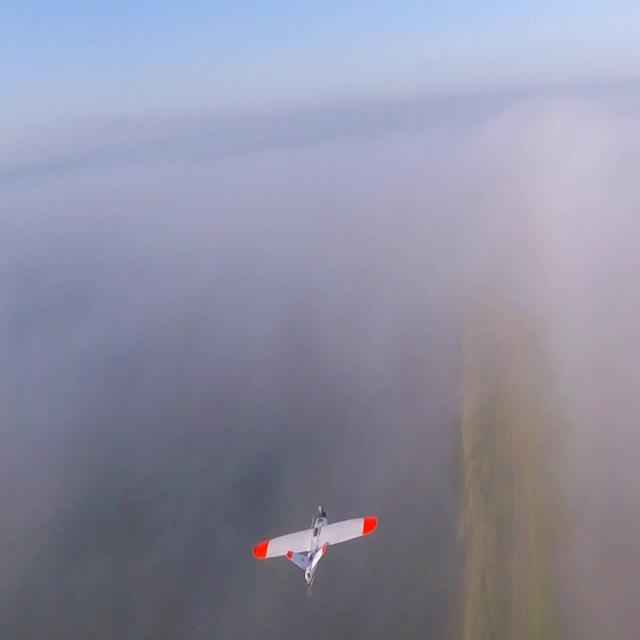iha: (249, 539, 377, 556)
